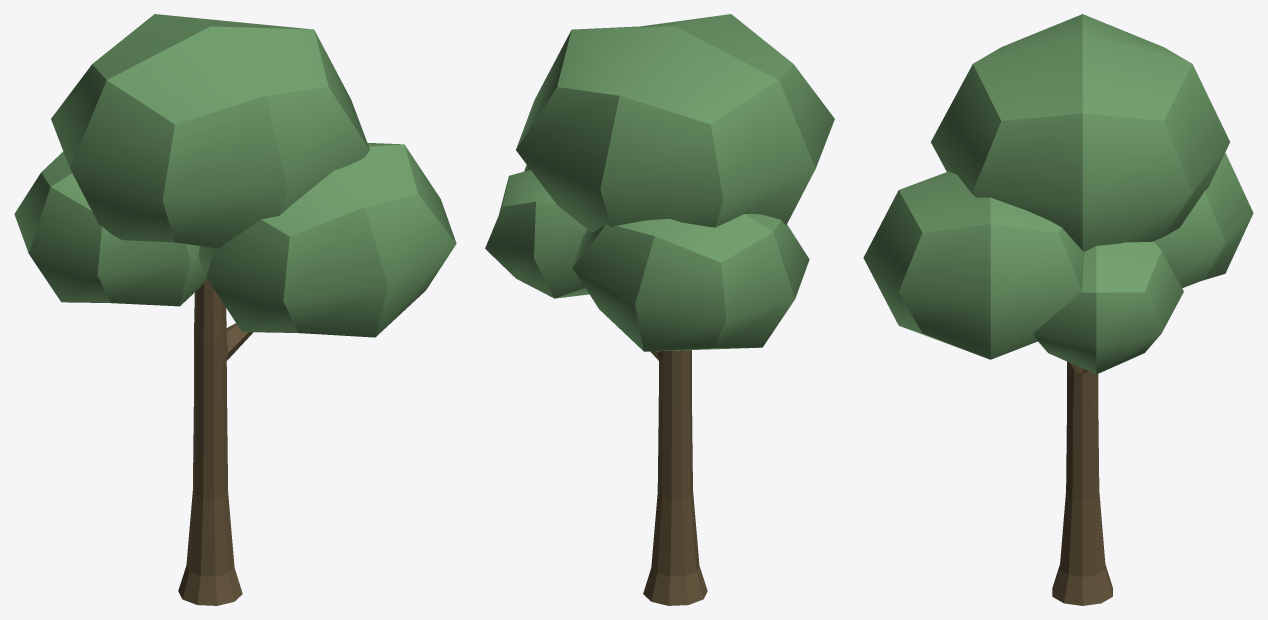
Rendered from Arbol_Copa_02.fbx.
3 views of the same model, side by side, from view 1: azimuth 30°, elevation 25°; view 2: azimuth 150°, elevation 25°; view 3: azimuth 270°, elevation 25° (orthographic).
Visible parts, largest first — view 1: pCube6, pCube12, pCube11, Tronco; view 2: pCube6, pCube11, Tronco, pCube13; view 3: pCube6, pCube12, pCube13, Tronco, pCube11.
Part boxes in pixels (x1,y1,x2,y2): pCube6: (51, 14, 369, 248); pCube12: (198, 142, 456, 337); pCube11: (14, 151, 207, 306); Tronco: (178, 279, 252, 605); pCube6: (516, 14, 834, 232); pCube11: (572, 213, 809, 351); Tronco: (643, 350, 707, 605); pCube13: (485, 170, 588, 298); pCube6: (931, 14, 1229, 251); pCube12: (863, 171, 1083, 359); pCube13: (1033, 241, 1183, 374); Tronco: (1052, 361, 1112, 605); pCube11: (1154, 152, 1253, 288).
Bounding box in the file's own units: 13.51 × 21.85 × 13.88.
